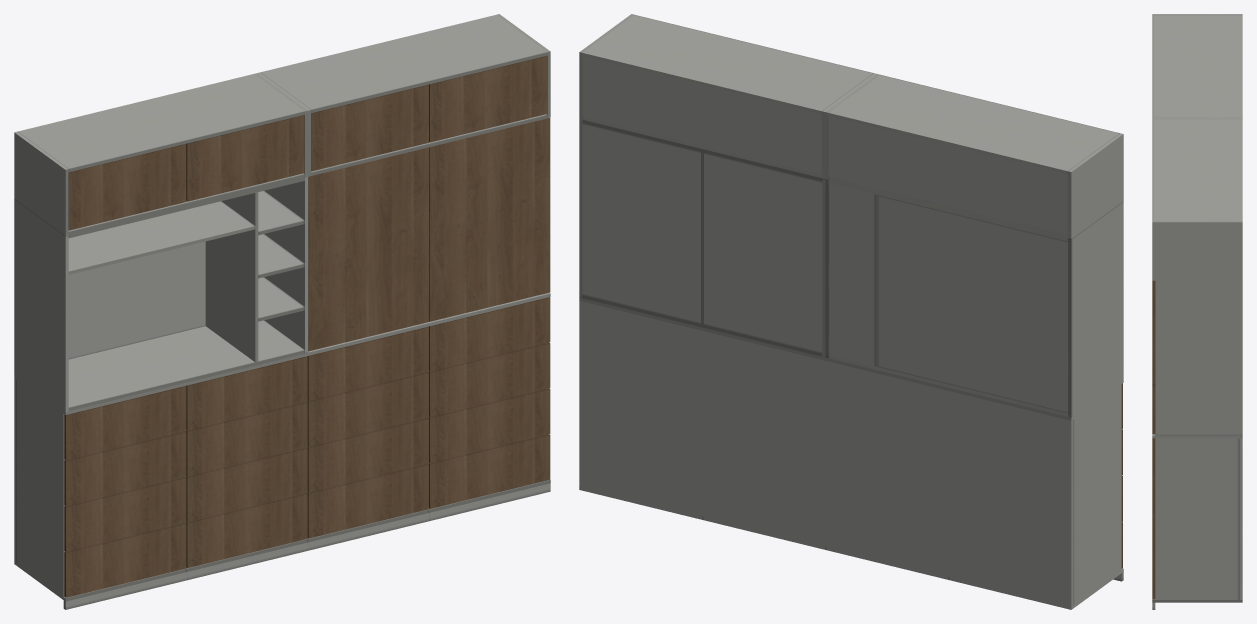
The model's file is meublep.glb.
3 views of the same model, side by side, from view 1: azimuth 30°, elevation 25°; view 2: azimuth 150°, elevation 25°; view 3: azimuth 270°, elevation 25° (orthographic). The views are drawn at different scales.
Visible parts, largest first — view 1: world; view 2: world; view 3: world.
Part boxes in pixels (x1,y1,x2,y2): world: (14, 14, 550, 609); world: (579, 14, 1123, 609); world: (1152, 14, 1242, 609).
Size of the model in its own units: 3 by 2.6 by 0.55.
1 material, 1 textured.
